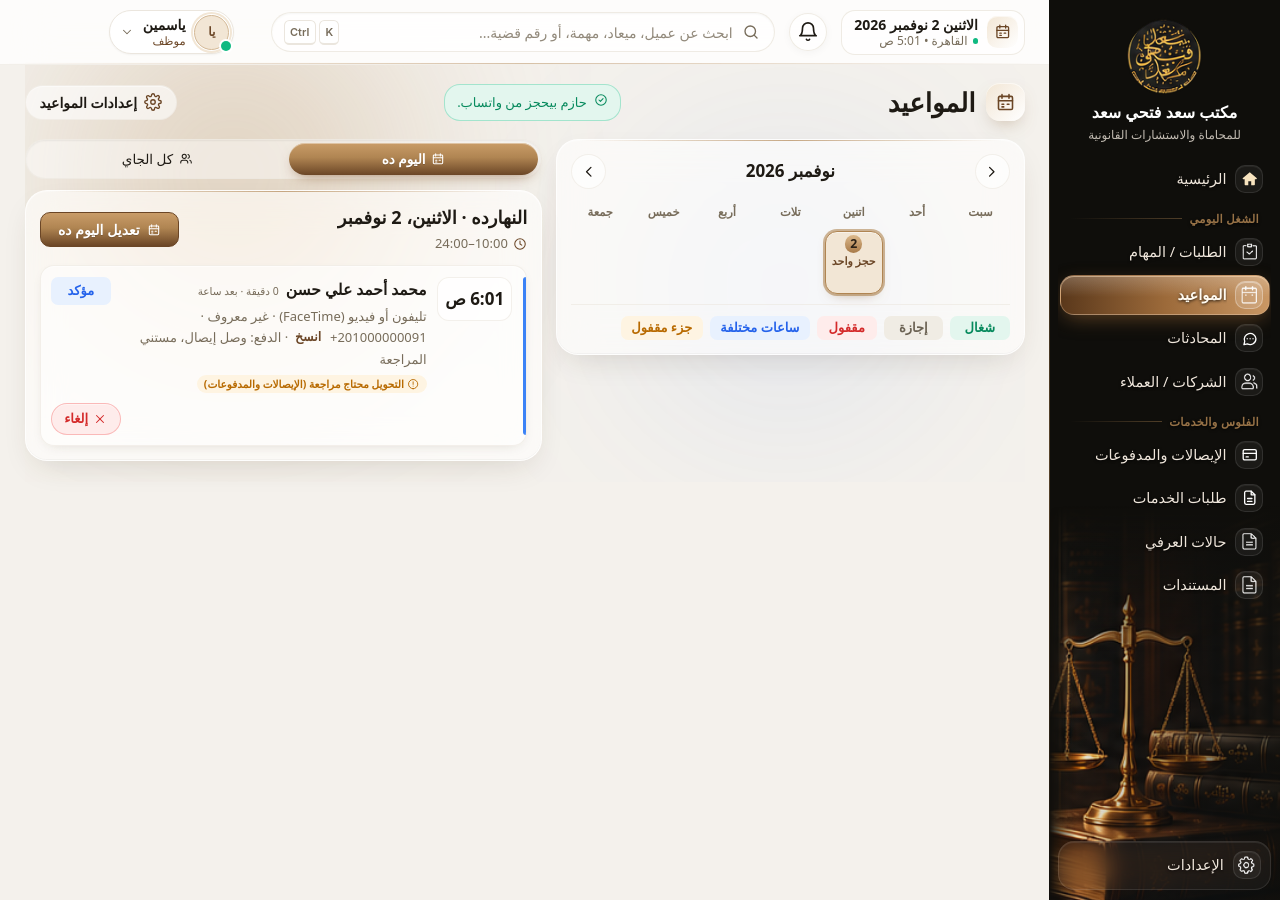
TASK 08 booking › the calendar opens on today with its bookings, the number copies, and the week shows its hours
Expected: the text "محمد أحمد علي حسن" is shown, x1=286 y1=277 x2=427 y2=302
Click the button with aria-label "انسخ الرقم": [308, 338] box x1=292 y1=328 x2=325 y2=348
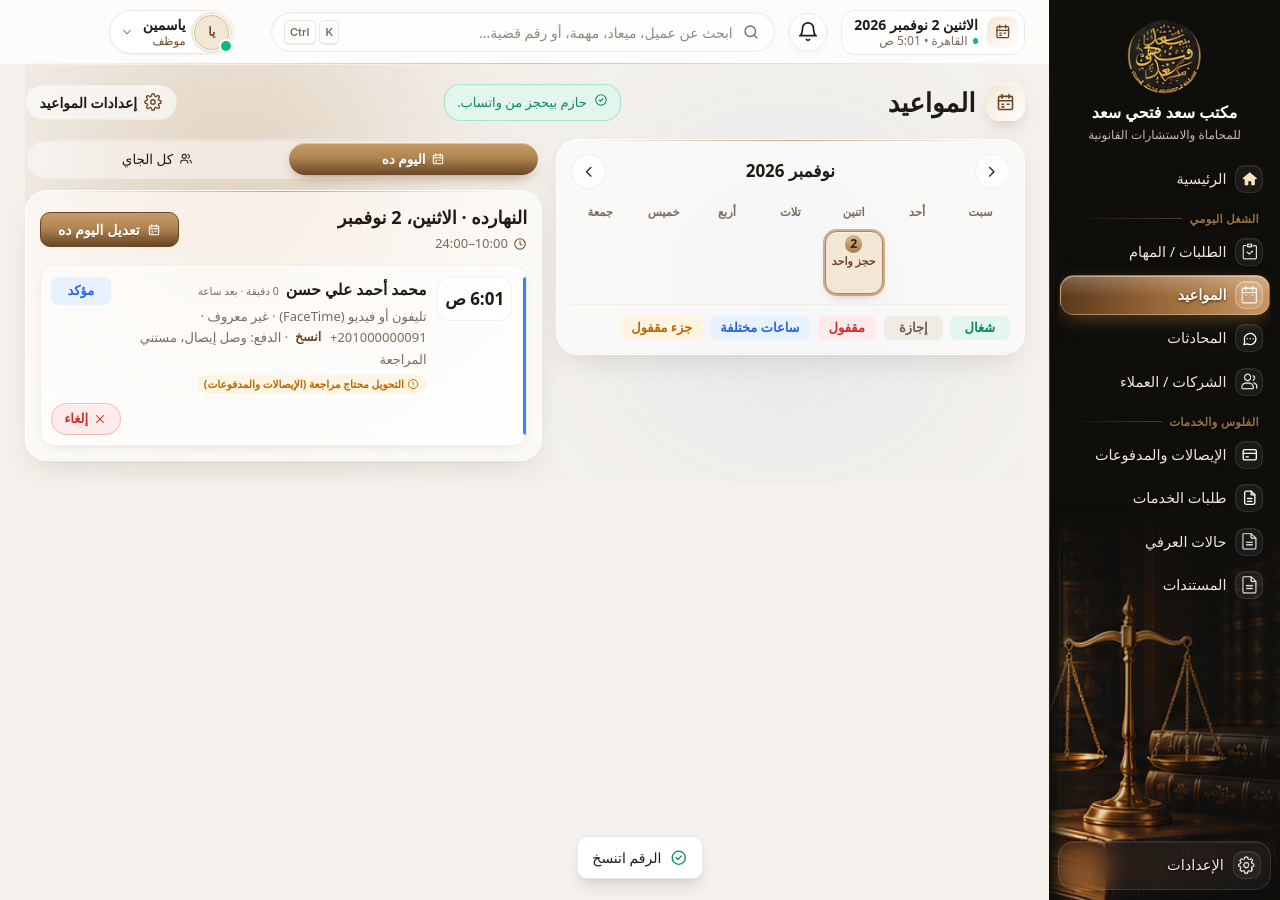
Now the text "الرقم اتنسخ" is shown, box x1=577 y1=836 x2=703 y2=879
Click the link "إعدادات المواعيد": [101, 102] box x1=24 y1=85 x2=177 y2=120
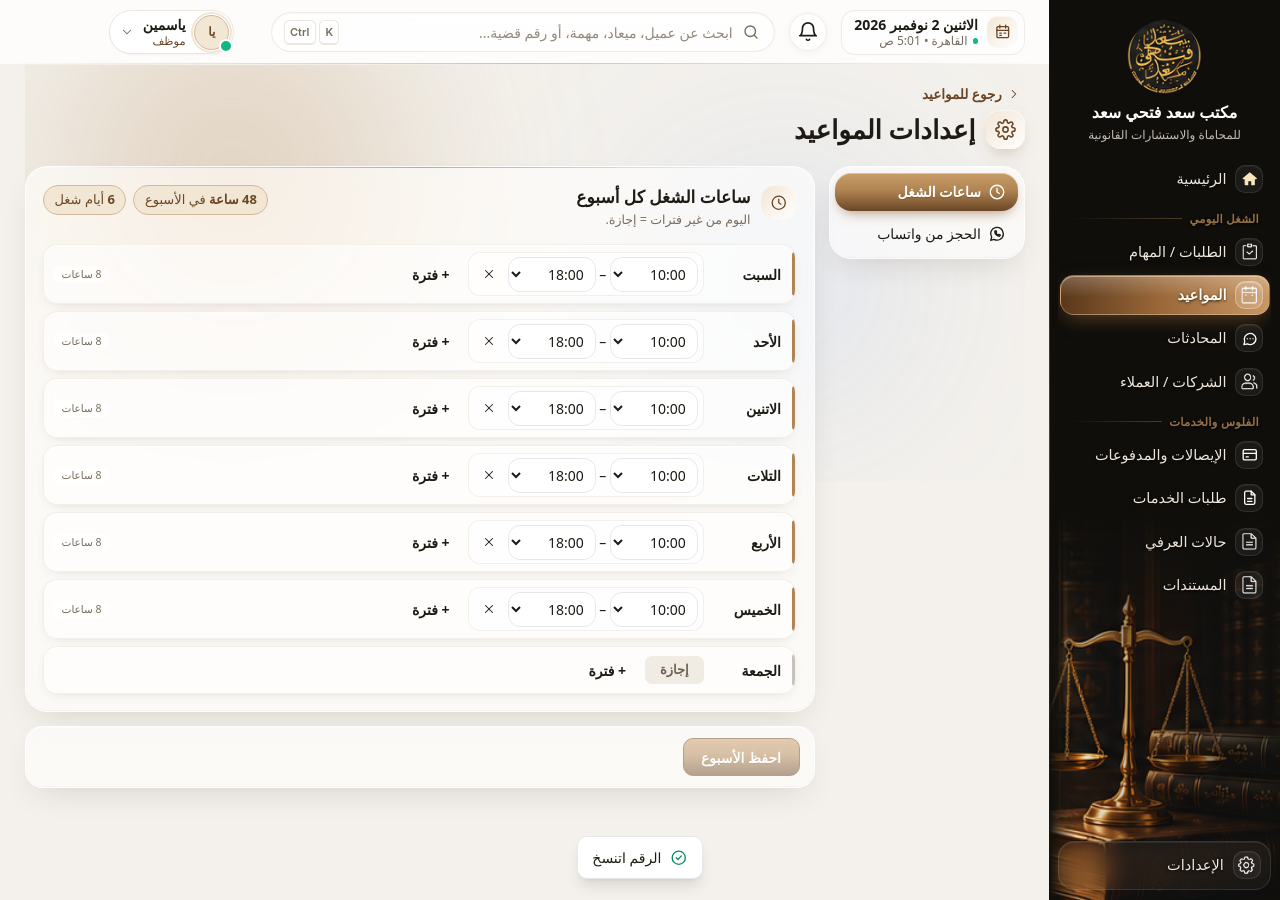
Now the text "في الأسبوع" shows "48 ساعة", box x1=209 y1=190 x2=257 y2=208
Now the text "8 ساعات" in the row of "السبت" is shown, box x1=62 y1=267 x2=102 y2=281
